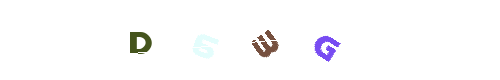3: (215, 0, 295, 80)
6: (210, 0, 290, 80)
D: (99, 0, 179, 80)
G: (286, 0, 366, 80)
